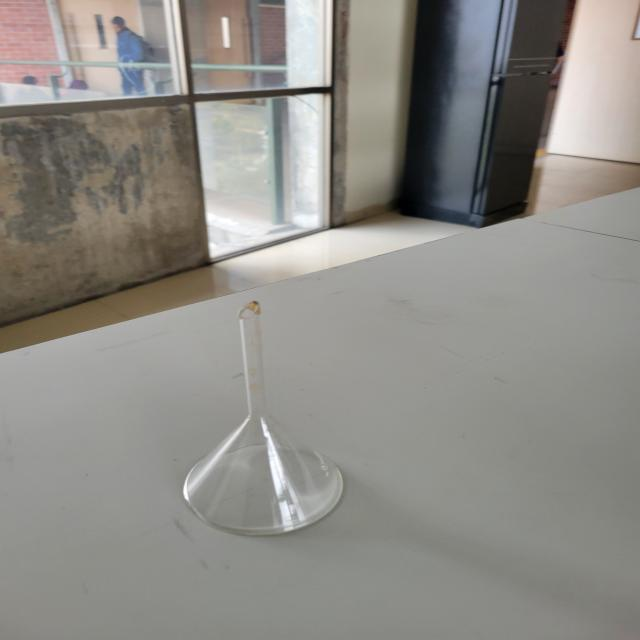Funnel: (148, 247, 368, 566)
